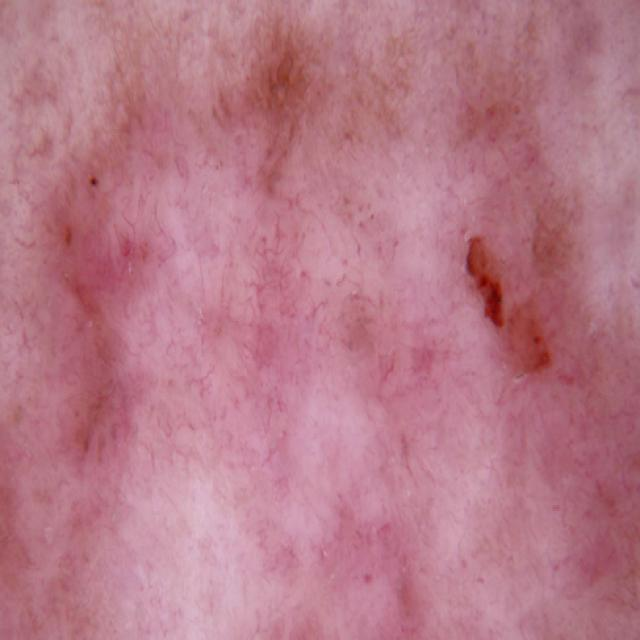Carcinoma: (414, 233, 620, 525), (33, 152, 187, 476)
